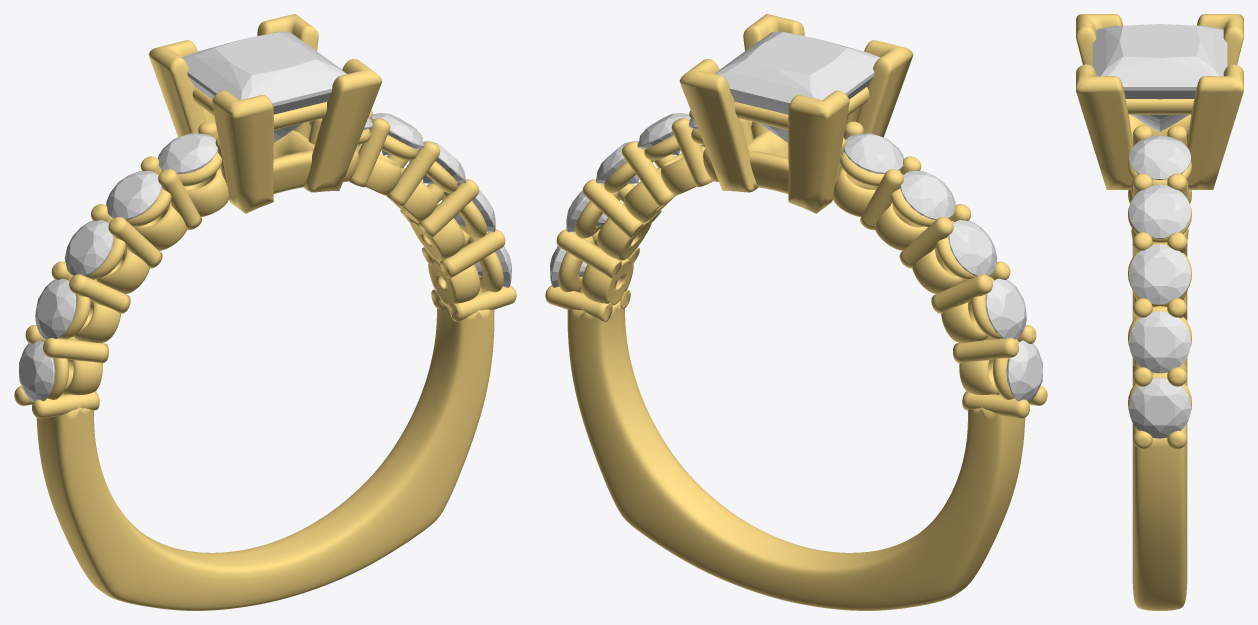
File: diamond-princess-yellowgold-protectededges4prongs-europeanshank-11stone.glb
3 renders of one model, left to right at view 1: azimuth 30°, elevation 25°; view 2: azimuth 150°, elevation 25°; view 3: azimuth 270°, elevation 25°, orthographic.
Visible parts, largest first — view 1: metal, stone, side.004, side.005, side.001, side.006, side, side.008; view 2: metal, stone, side.004, side.005, side.001, side.006, side, side.008; view 3: metal, stone, side.003, side.009, side.002, side.008, side.007.
Boxes of the visible parts, x1,y1,x2,y2 form: metal: [14, 14, 516, 610]; stone: [181, 31, 346, 142]; side.004: [64, 220, 113, 275]; side.005: [106, 171, 161, 219]; side.001: [35, 278, 76, 339]; side.006: [158, 133, 217, 173]; side: [19, 340, 55, 402]; side.008: [371, 113, 424, 155]; metal: [545, 14, 1047, 610]; stone: [715, 31, 880, 142]; side.004: [948, 220, 997, 275]; side.005: [900, 171, 955, 219]; side.001: [985, 278, 1026, 339]; side.006: [844, 133, 903, 173]; side: [1006, 340, 1042, 402]; side.008: [637, 113, 690, 155]; metal: [1076, 14, 1243, 610]; stone: [1092, 24, 1227, 131]; side.003: [1129, 311, 1190, 373]; side.009: [1129, 244, 1190, 304]; side.002: [1129, 378, 1190, 438]; side.008: [1129, 184, 1190, 238]; side.007: [1129, 135, 1190, 179].
Bounding box in the file's own units: 22 × 23.65 × 6.77.
